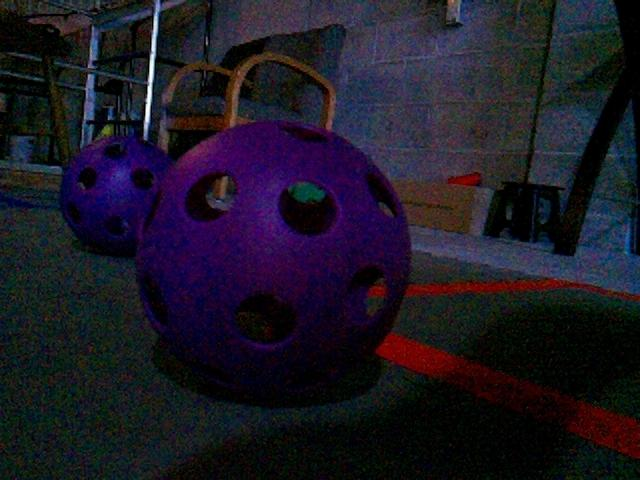Purple: (134, 122, 414, 400), (57, 135, 171, 256)
